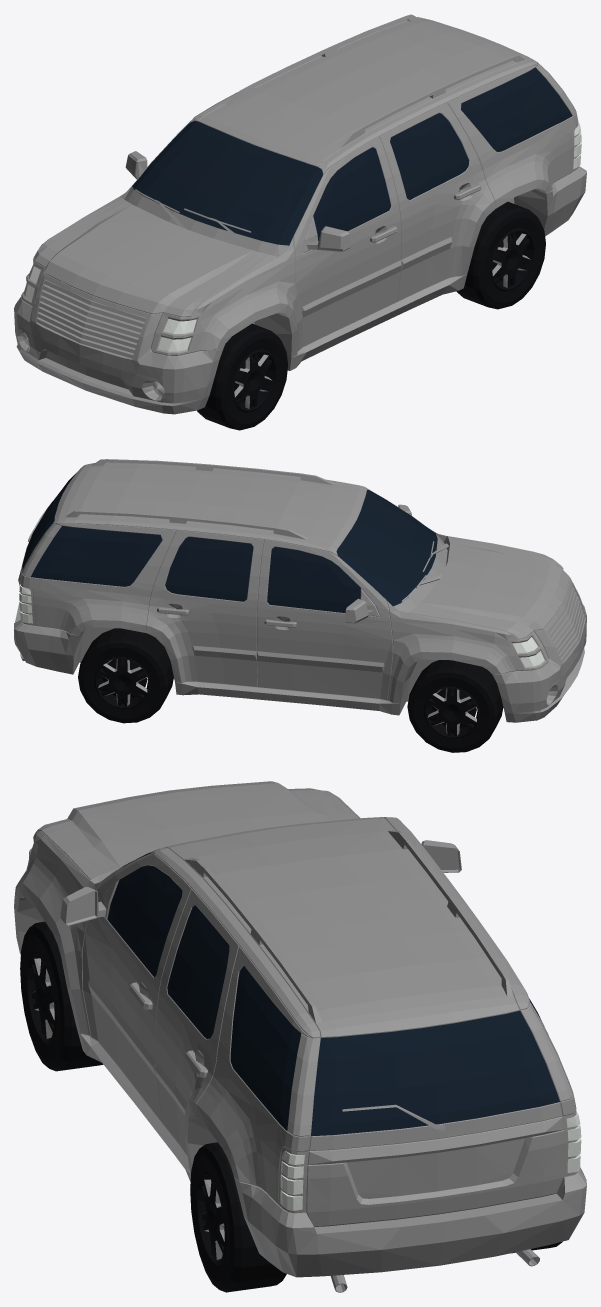
File: suv.obj
3 views of the same model, one above another, from view 1: azimuth 30°, elevation 25°; view 2: azimuth 150°, elevation 25°; view 3: azimuth 270°, elevation 25° (orthographic). The views are drawn at different scales.
Parts seen in each view (by area): view 1: wheel_e003, suv-body; view 2: wheel_e003, suv-body; view 3: wheel_e003, suv-body.
Part boxes in pixels (x1,y1,x2,y2): wheel_e003: (14, 14, 586, 430); suv-body: (23, 67, 581, 395); wheel_e003: (14, 459, 586, 752); suv-body: (19, 473, 544, 667); wheel_e003: (14, 781, 586, 1292); suv-body: (107, 849, 581, 1210).
Bounding box in the file's own units: 4.1 × 1.53 × 2.51.
